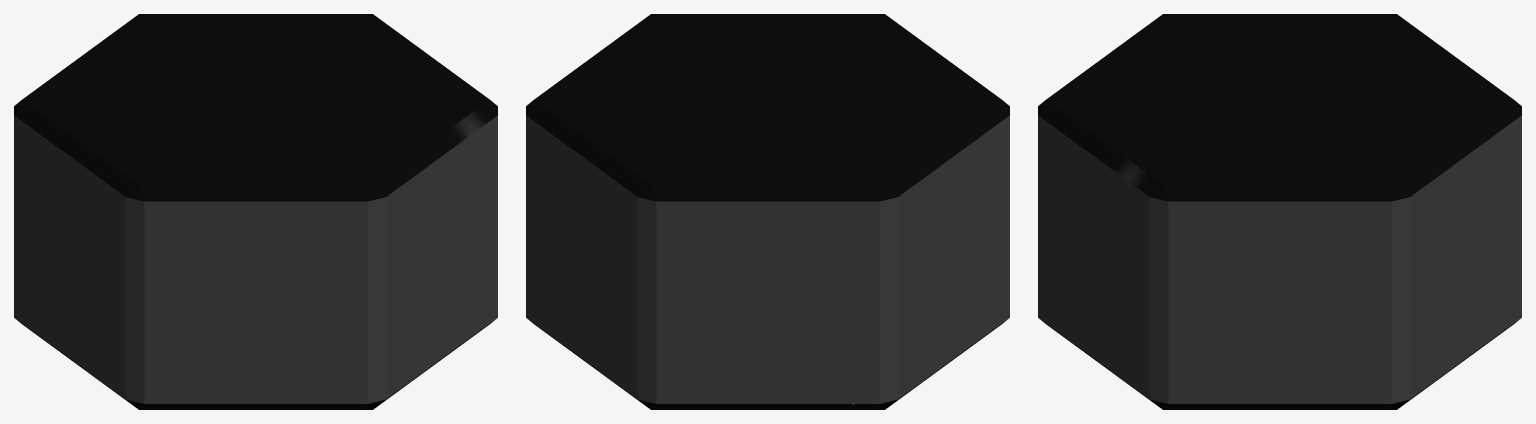
Rendered from BaseHex_Black.fbx.
3 views of the same model, side by side, from view 1: azimuth 30°, elevation 25°; view 2: azimuth 150°, elevation 25°; view 3: azimuth 270°, elevation 25° (orthographic).
Visible parts, largest first — view 1: 01.Black; view 2: 01.Black; view 3: 01.Black.
Part boxes in pixels (box(x1,y1,x2,y2)): 01.Black: box(14, 14, 497, 409); 01.Black: box(526, 14, 1009, 409); 01.Black: box(1038, 14, 1521, 409).
Size of the model in its own units: 173 by 100 by 195.
1 material, 1 textured.
